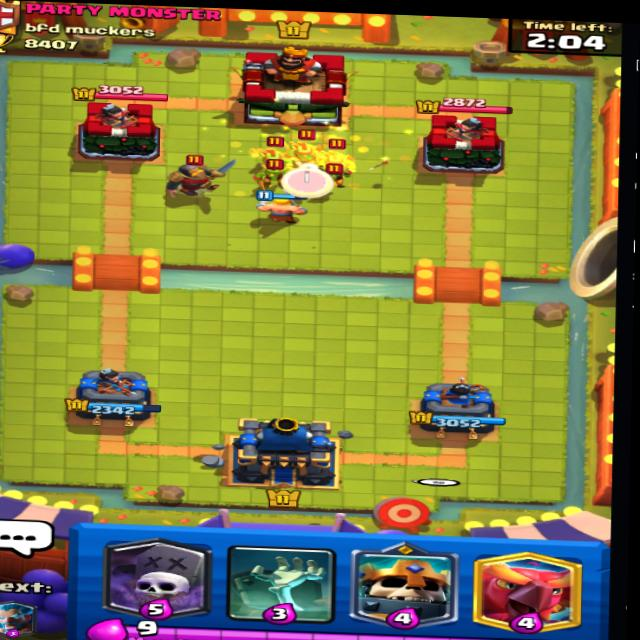Goblin: (320, 168, 355, 201), (258, 157, 292, 186), (294, 161, 319, 189)
Knight: (170, 156, 216, 203)
Speargoblin: (248, 137, 288, 163), (330, 136, 357, 167), (292, 139, 316, 163)
